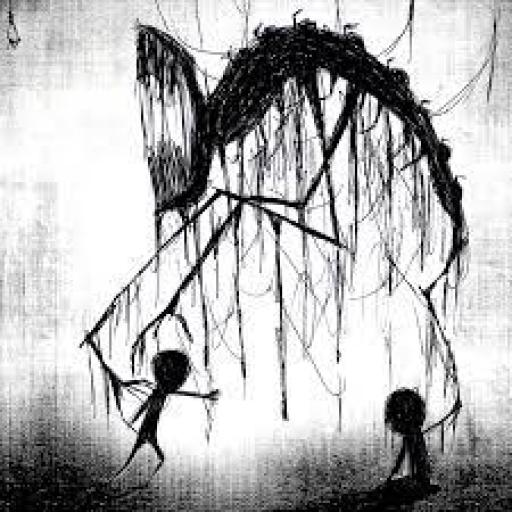person: (112, 350, 222, 496), (373, 384, 466, 512)
